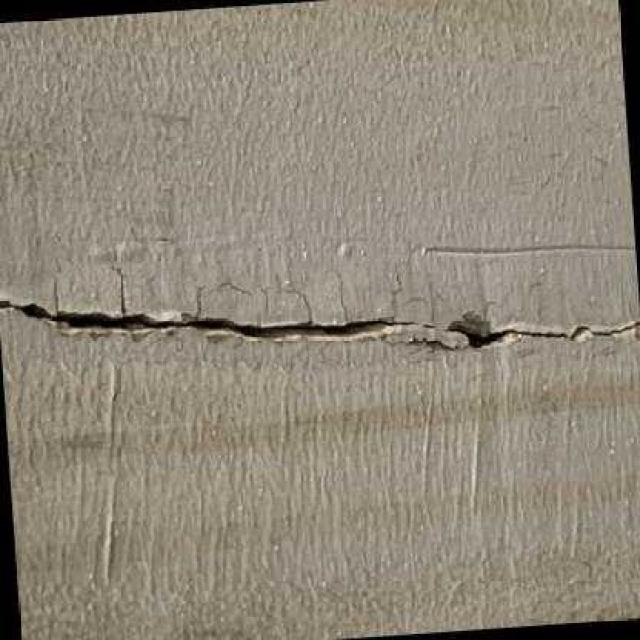D00: (0, 296, 640, 352)
